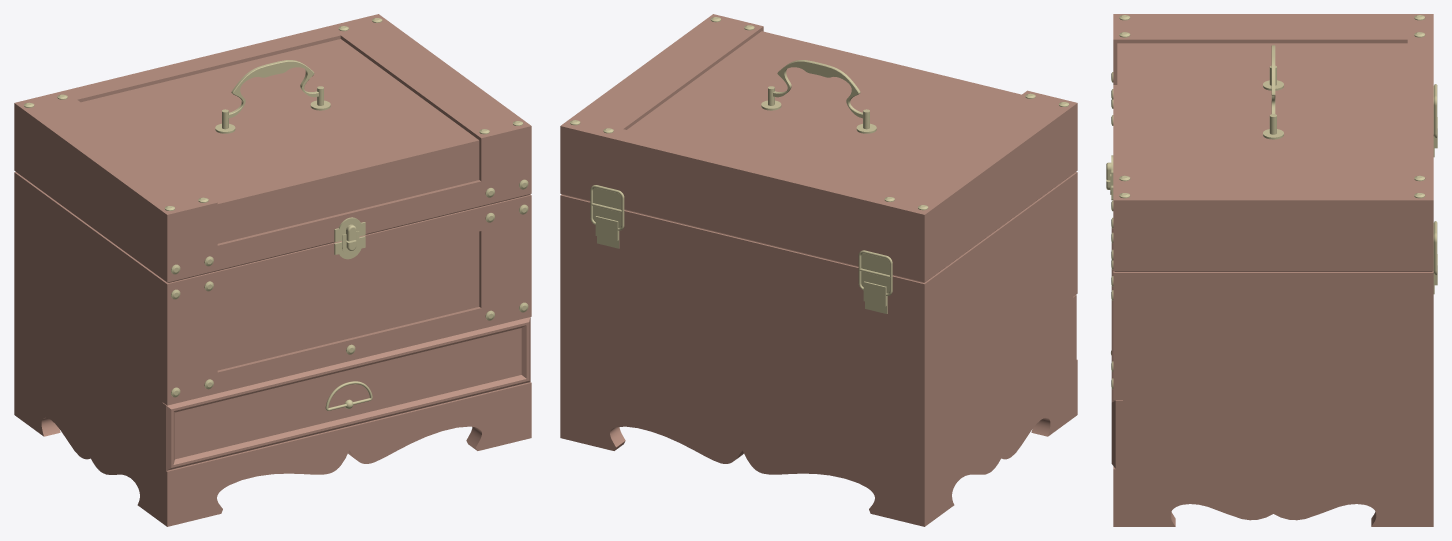
The model's file is 948_makeup_box.glb.
3 renders of one model, left to right at view 1: azimuth 30°, elevation 25°; view 2: azimuth 150°, elevation 25°; view 3: azimuth 270°, elevation 25°, orthographic. The views are drawn at different scales.
Parts seen in each view (by area): view 1: Body, huta, hikidashi; view 2: Body, huta; view 3: huta, Body, hikidashi.
Boxes of the visible parts, left/top/right/bottom form: Body: left=14, top=172, right=531, bottom=526; huta: left=14, top=14, right=531, bottom=282; hikidashi: left=162, top=317, right=530, bottom=470; Body: left=560, top=172, right=1077, bottom=526; huta: left=560, top=14, right=1077, bottom=282; huta: left=1106, top=14, right=1437, bottom=271; Body: left=1106, top=99, right=1437, bottom=526; hikidashi: left=1111, top=227, right=1122, bottom=469.
Size of the model in its own units: 0.22 by 0.2095 by 0.1653.
